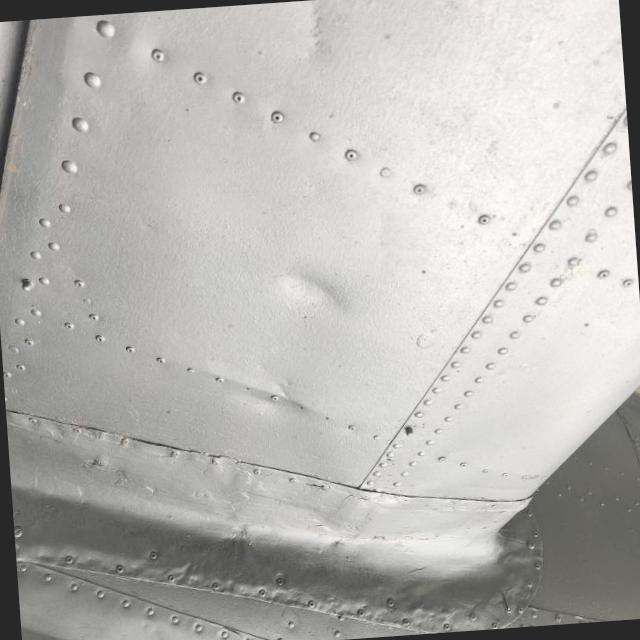dent: (262, 240, 376, 354), (220, 354, 332, 457)
